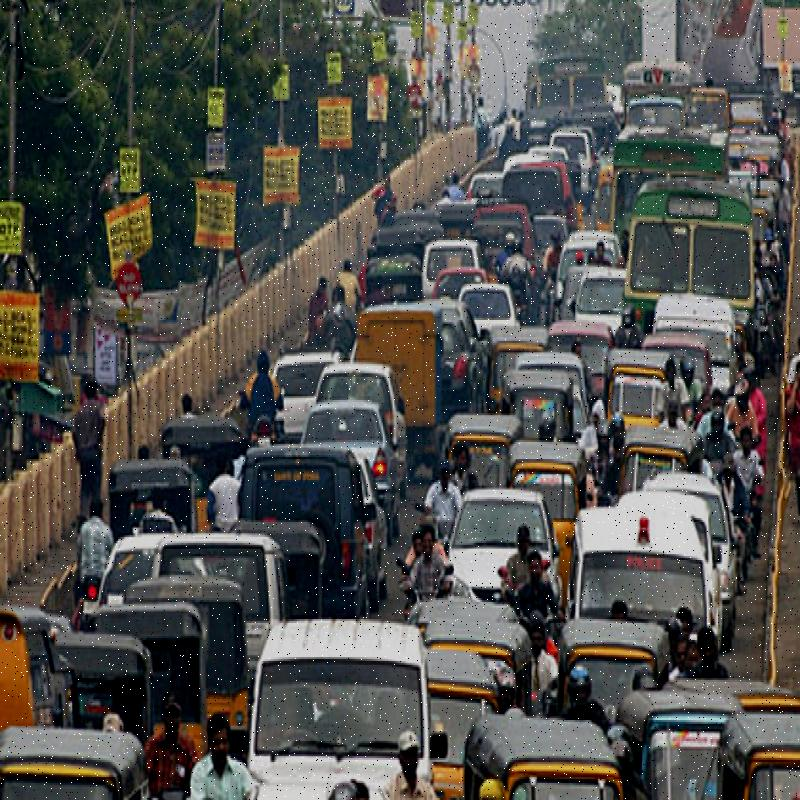AmbulanceSiren: (633, 500, 659, 556)
auto: (720, 716, 800, 800)
